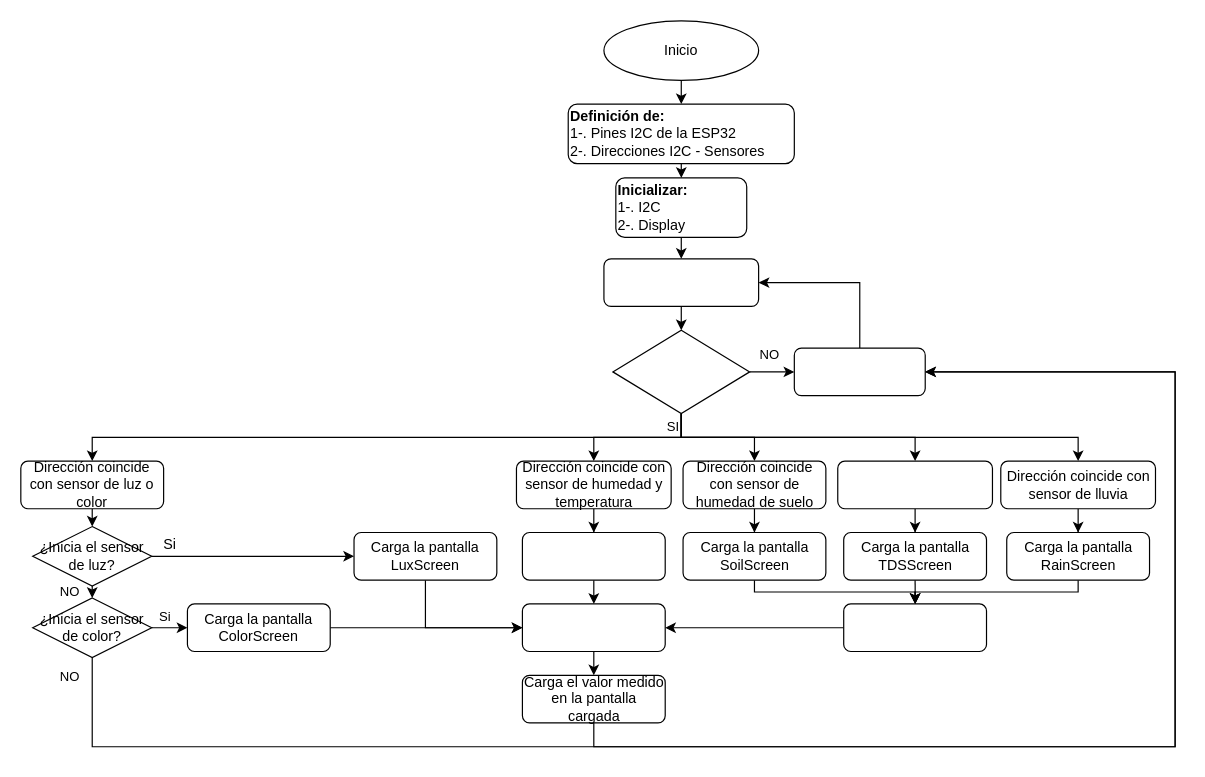
This 1205x777 diagram has some shape labels left out. The box of each missing label's shape, as (x1, y1, x2, y2) in pixels:
Carga la pantalla TempHumScreen: (521, 531, 665, 580)
Carga MainScreen: (793, 347, 925, 396)
Dirección coincide con sensor de TDS: (837, 460, 992, 509)
Inicia el ADC: (843, 603, 987, 652)
Inicializa el sensor y toma una medida: (521, 603, 665, 652)
Scanner I2C: (603, 258, 759, 306)
¿Dirección coincide con algún sensor?: (612, 329, 750, 414)
